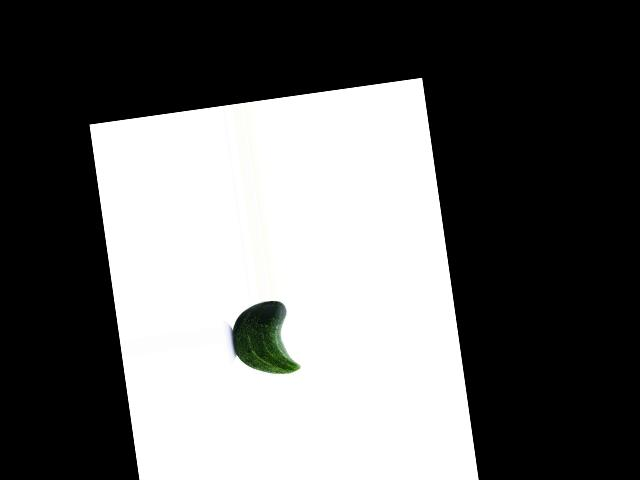cucumber: (228, 298, 300, 381)
